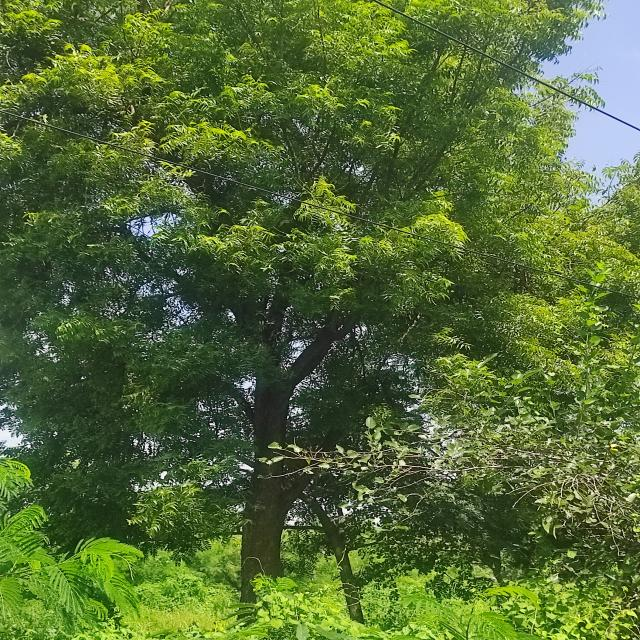Neem-Tree: (23, 18, 519, 497)
